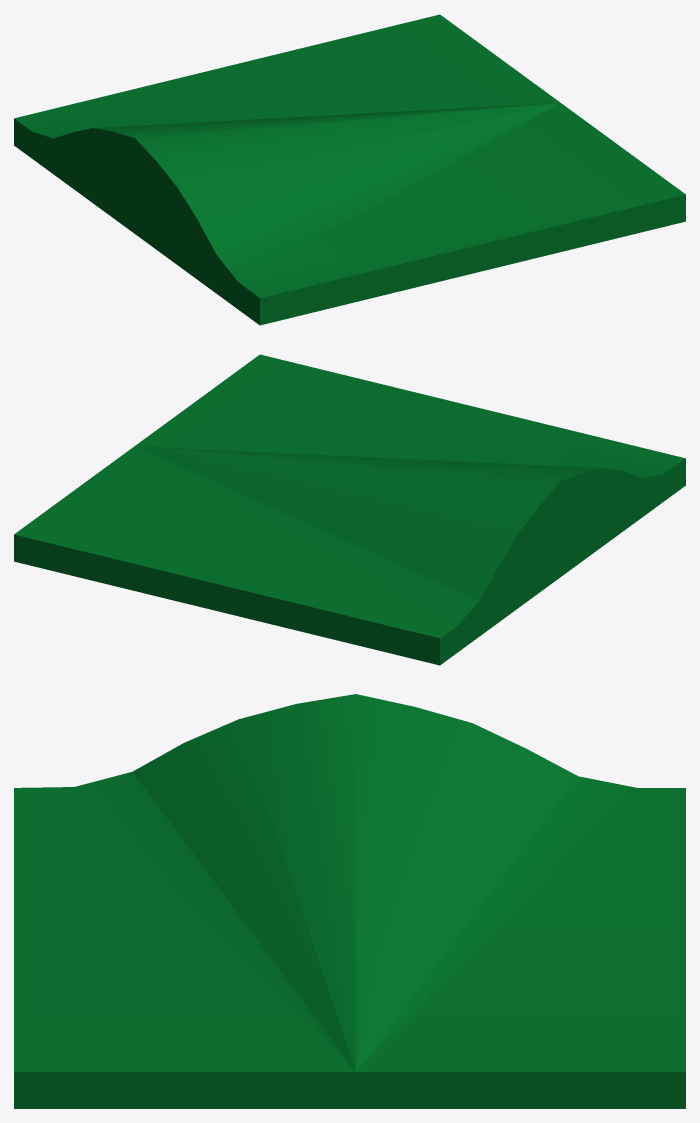
File: sidebend.gltf
3 views of the same model, one above another, from view 1: azimuth 30°, elevation 25°; view 2: azimuth 150°, elevation 25°; view 3: azimuth 270°, elevation 25° (orthographic). The views are drawn at different scales.
Visible parts, largest first — view 1: sidebend_glb; view 2: sidebend_glb; view 3: sidebend_glb.
Boxes of the visible parts, left/top/right/bottom form: sidebend_glb: left=14, top=14, right=685, bottom=325; sidebend_glb: left=14, top=354, right=685, bottom=665; sidebend_glb: left=14, top=694, right=685, bottom=1108.
Size of the model in its own units: 4 by 0.8602 by 4.
1 material, 1 textured.
